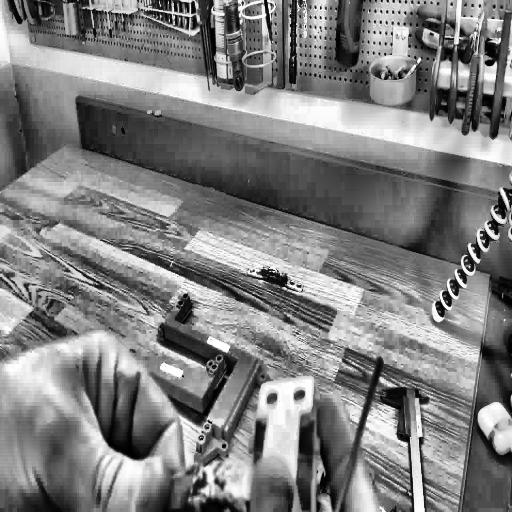busbar: (110, 288, 268, 485)
